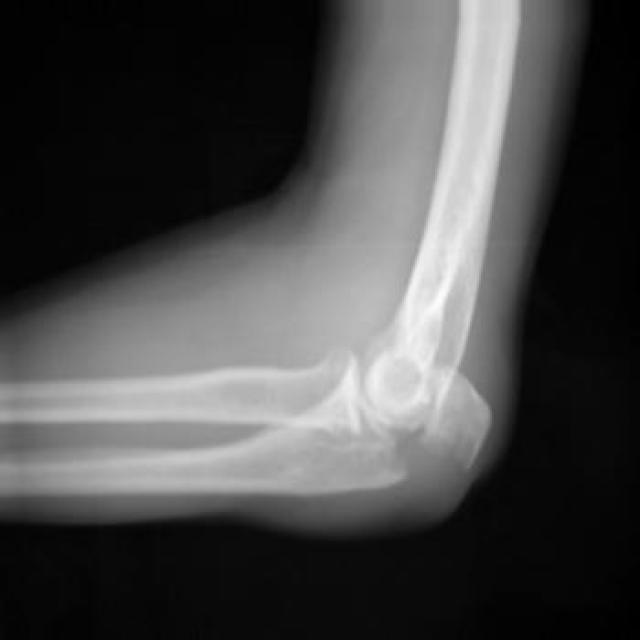Fracture: (384, 368, 500, 496)
